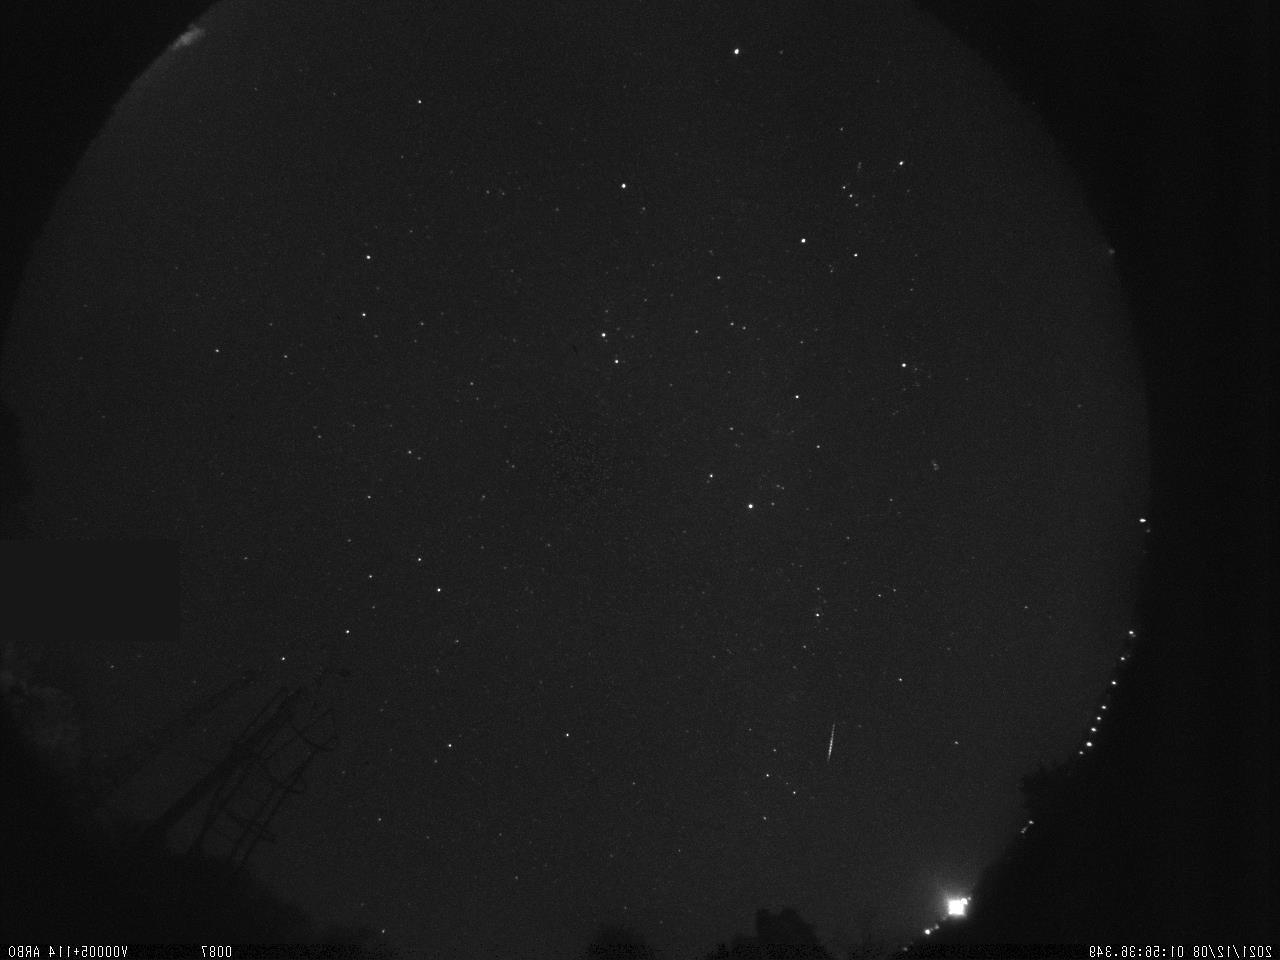meteor: (823, 718, 841, 774)
